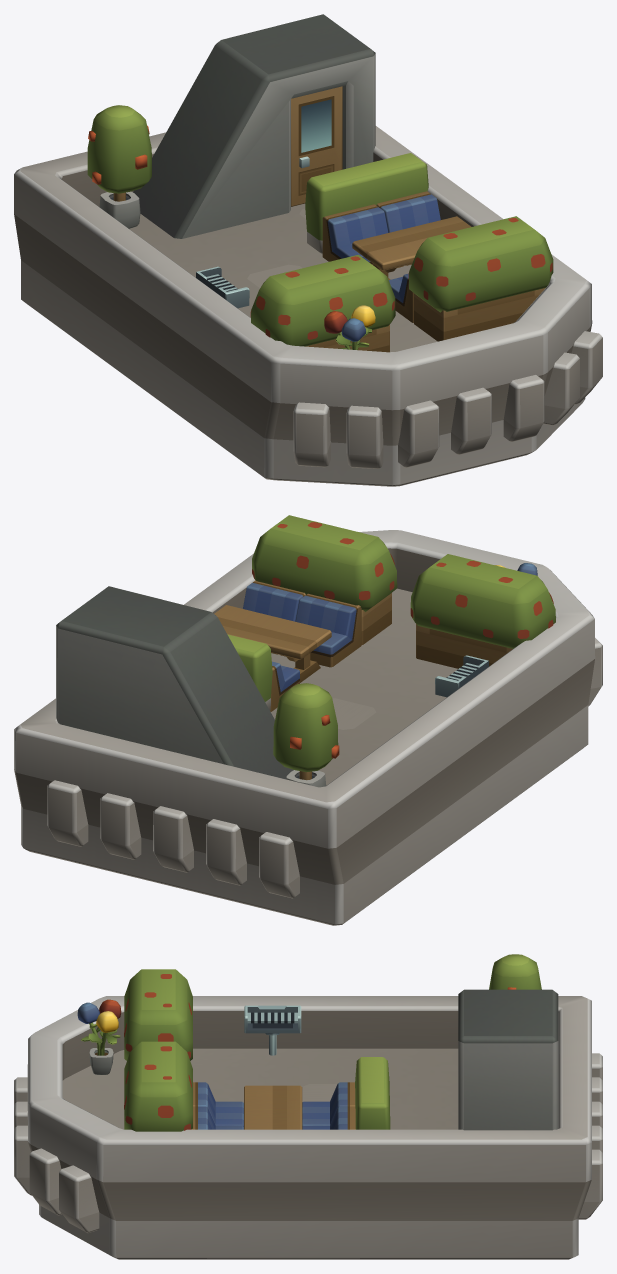
The model's file is appartment_type4_roof_type2_deco.fbx.
The picture shows the model from 3 angles, top to bottom: view 1: azimuth 30°, elevation 25°; view 2: azimuth 150°, elevation 25°; view 3: azimuth 270°, elevation 25°; orthographic projection. The views are drawn at different scales.
Parts seen in each view (by area): view 1: appartment_type4_roof_type2_deco, door_wood_rooftop_doorway; view 2: appartment_type4_roof_type2_deco; view 3: appartment_type4_roof_type2_deco.
Part boxes in pixels (box(x1,y1,x2,y2)): appartment_type4_roof_type2_deco: box(14, 14, 602, 486); door_wood_rooftop_doorway: box(291, 86, 342, 206); appartment_type4_roof_type2_deco: box(14, 515, 602, 925); appartment_type4_roof_type2_deco: box(14, 954, 602, 1259).
Size of the model in its own units: 610 by 410 by 1032.
